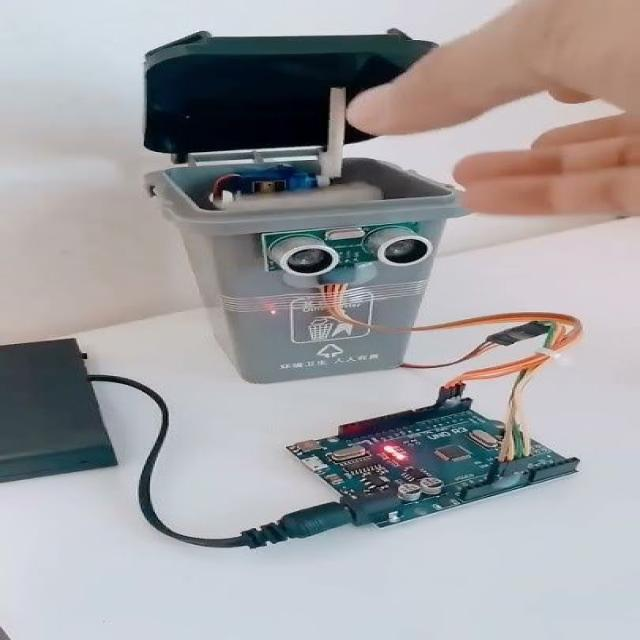Ultrasonic Sensor: (251, 216, 432, 279)
